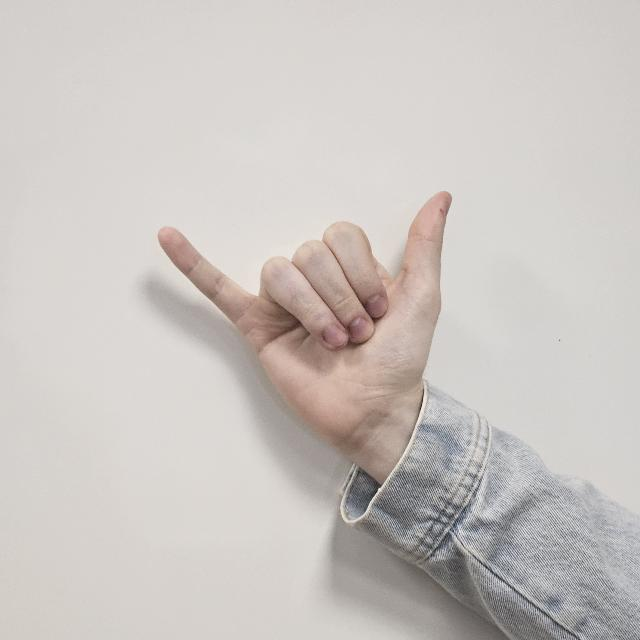Direita: (163, 185, 482, 482)
